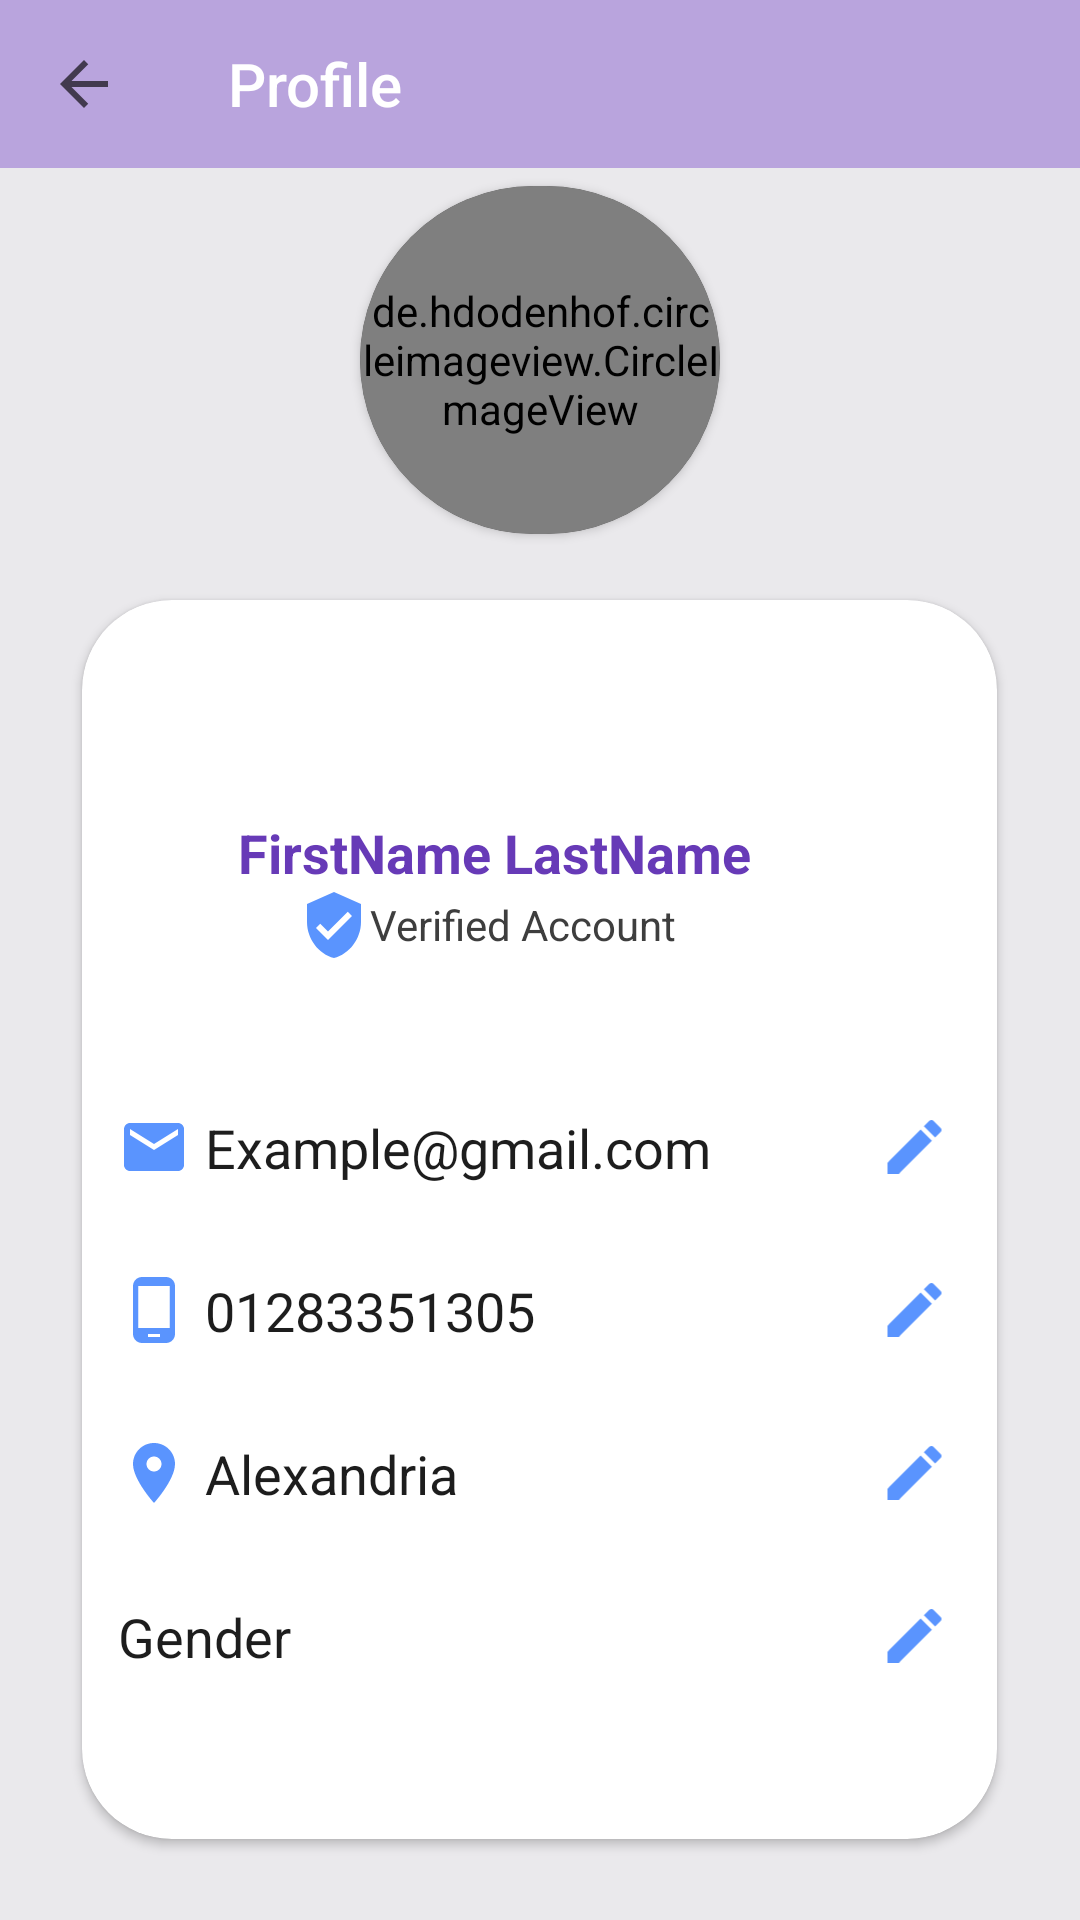

Where to tap for icons on this 1080px x 1920px app screen, as point (x, y):
edit: point (914, 1147), point (914, 1310), point (914, 1473), point (914, 1636)
